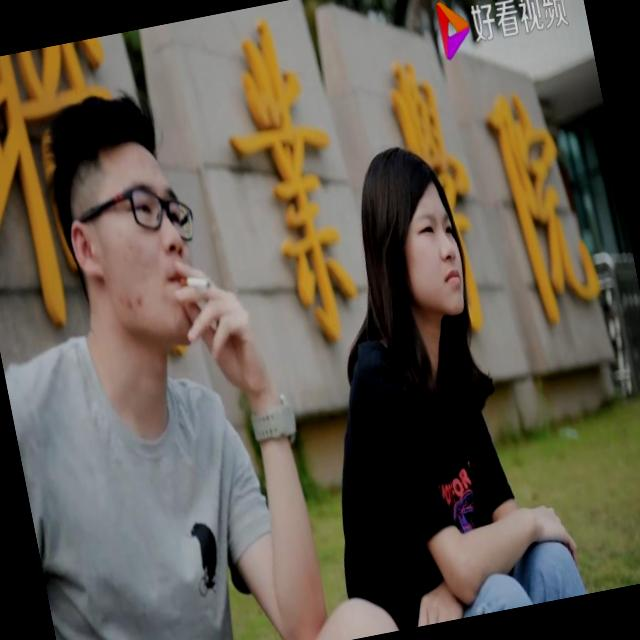cigarette: (174, 259, 218, 304)
